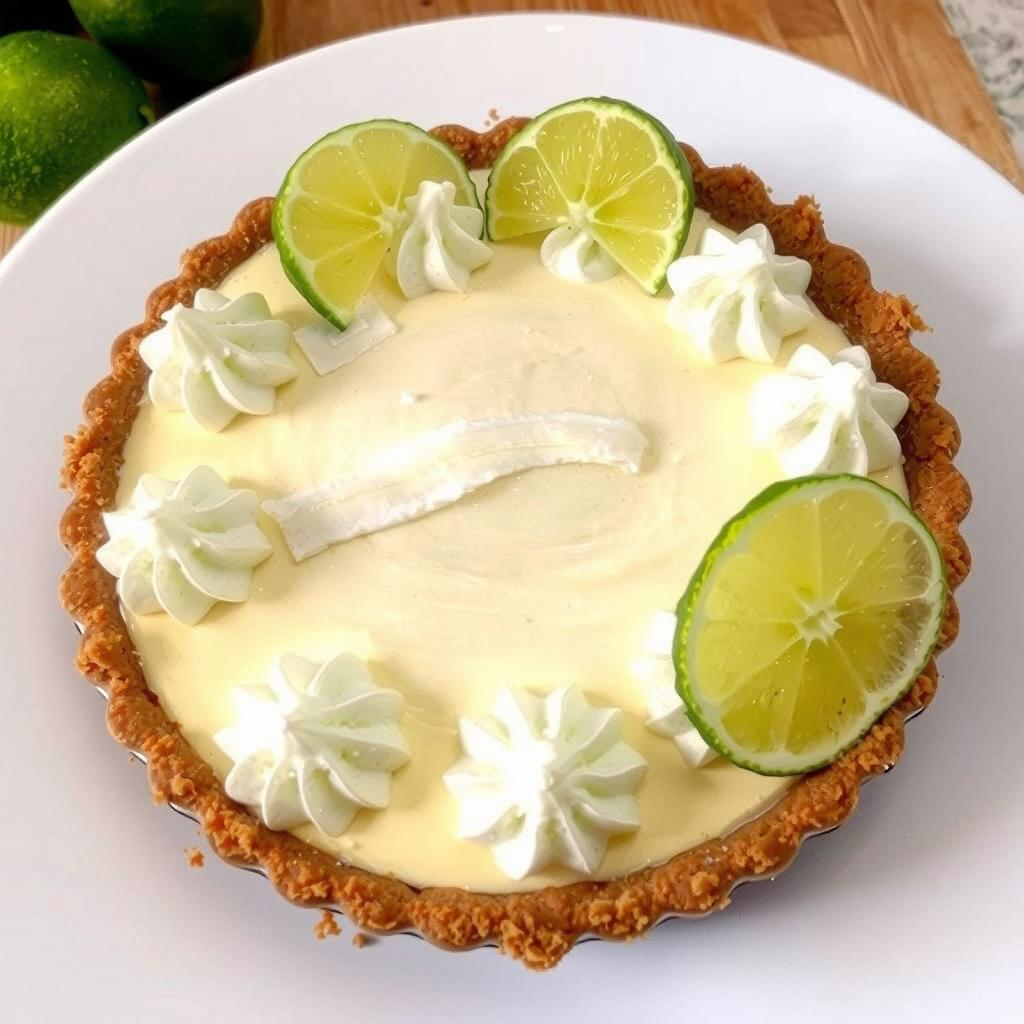pie: (57, 101, 979, 971)
